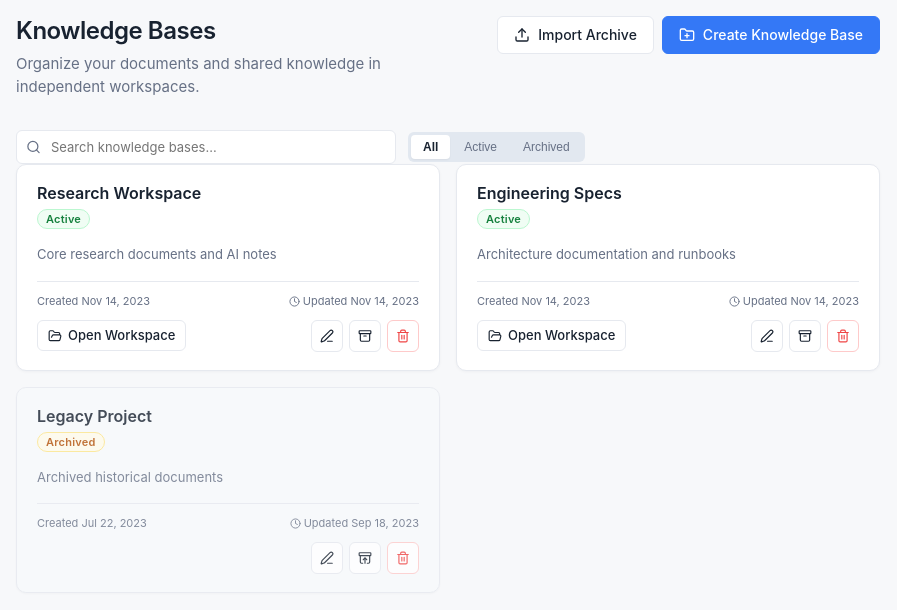
Test case: Renderer: KnowledgeBasesPage & Dashboard UI (Phase 4 Step 4.4) › 1. Dashboard, Listing & Filtering › shows empty search state when query matches nothing, and allows clearing search
Later steps or results of the test are not shown.
Step 1. Type "nonexistent-query-string" into the field with test id "input-kb-search" → (206, 147), box [16,130,396,164]
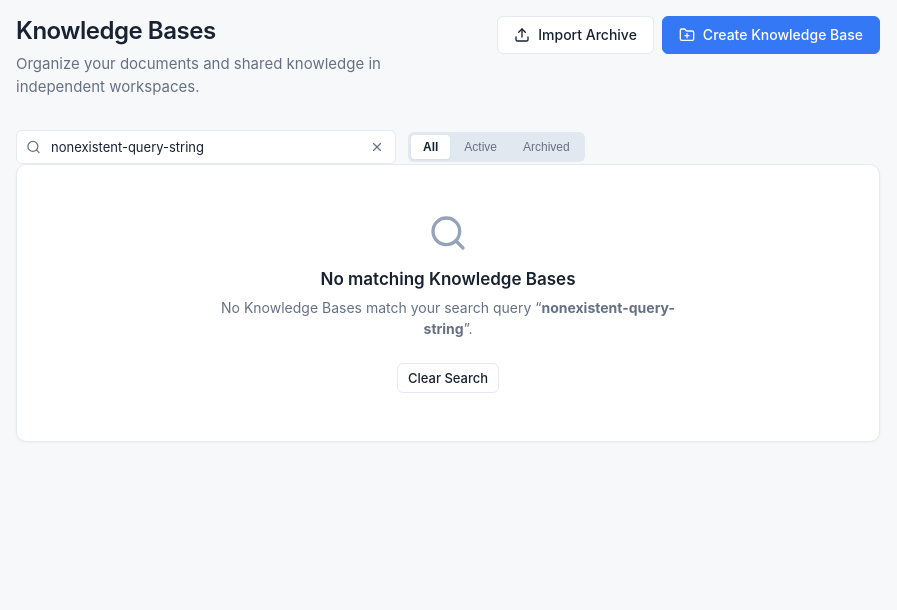
Expected: the element with test id "empty-state-no-results" is shown, [16,164,880,442]
Expected: the heading "No matching Knowledge Bases" is shown, [320,269,576,289]
